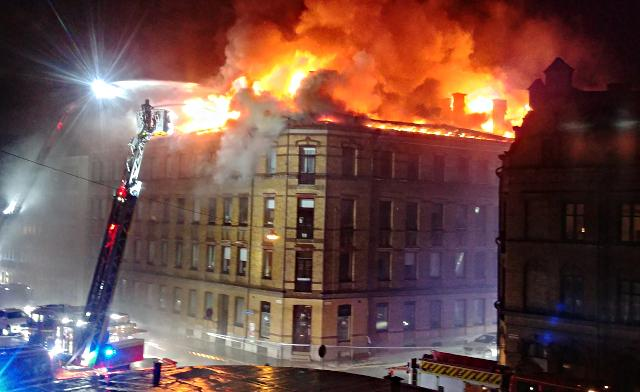fire: (468, 94, 498, 116)
smoke: (330, 11, 441, 108)
